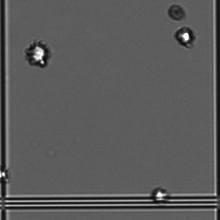Dead Cell: (166, 3, 187, 21)
Living Cell: (22, 40, 53, 69), (174, 25, 196, 49), (150, 187, 170, 205)
